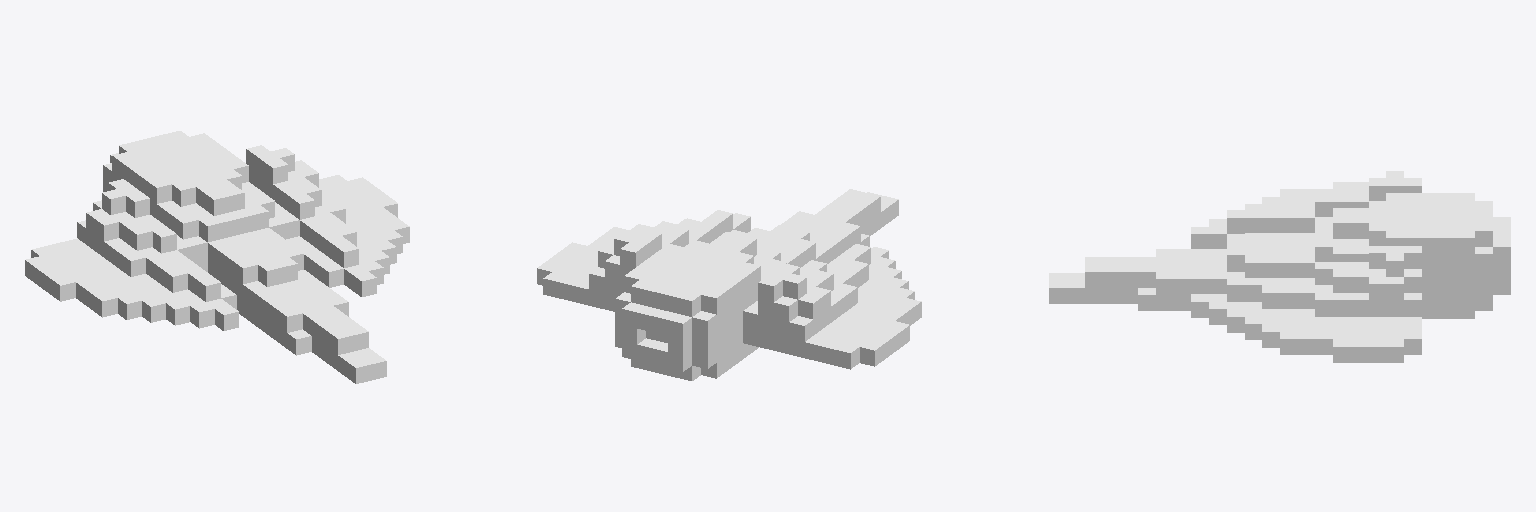
Rendered from PowerWing.obj.
3 views of the same model, side by side, from view 1: azimuth 30°, elevation 25°; view 2: azimuth 150°, elevation 25°; view 3: azimuth 270°, elevation 25° (orthographic).
Visible parts, largest first — view 1: object 1; view 2: object 1; view 3: object 1.
Part boxes in pixels (bbox=[...]): object 1: bbox=[25, 131, 409, 383]; object 1: bbox=[537, 189, 921, 380]; object 1: bbox=[1049, 171, 1510, 362].
Size of the model in its own units: 2.2 by 0.5 by 2.6.